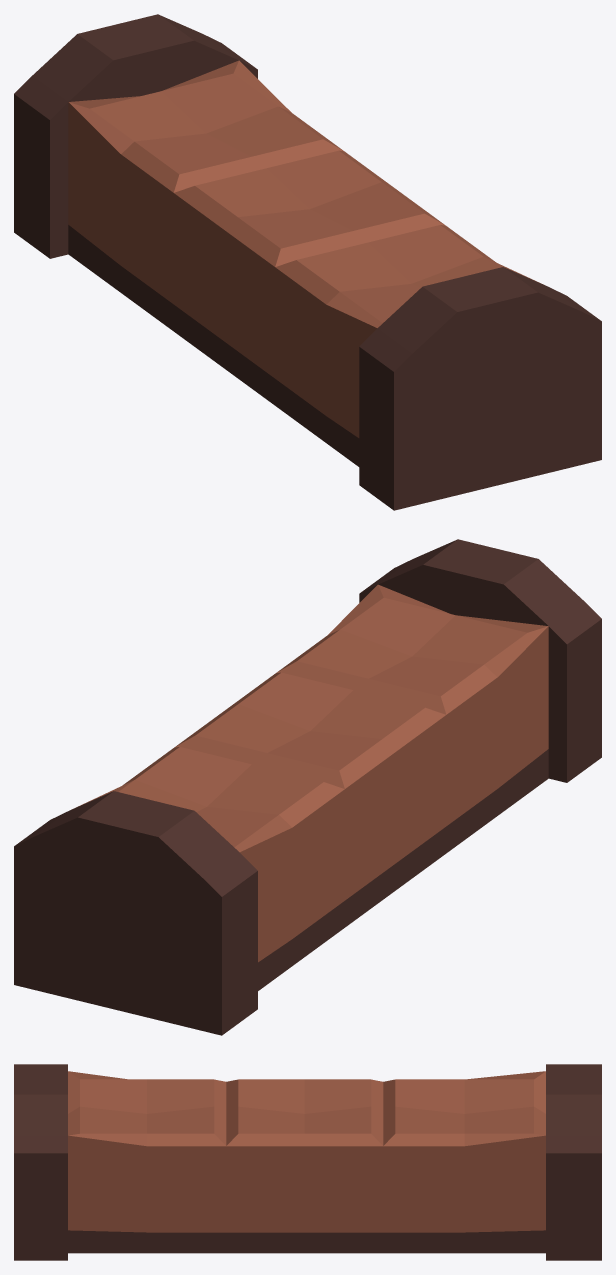
Rendered from seatC.glb.
3 renders of one model, top to bottom at view 1: azimuth 30°, elevation 25°; view 2: azimuth 150°, elevation 25°; view 3: azimuth 270°, elevation 25°, orthographic. The views are drawn at different scales.
Parts seen in each view (by area): view 1: Cube.008; view 2: Cube.008; view 3: Cube.008.
Part boxes in pixels (bbox=[...]): Cube.008: bbox=[14, 14, 601, 510]; Cube.008: bbox=[14, 539, 601, 1035]; Cube.008: bbox=[14, 1064, 601, 1260].
Bounding box in the file's own units: 4.66 × 3.92 × 14.76.
